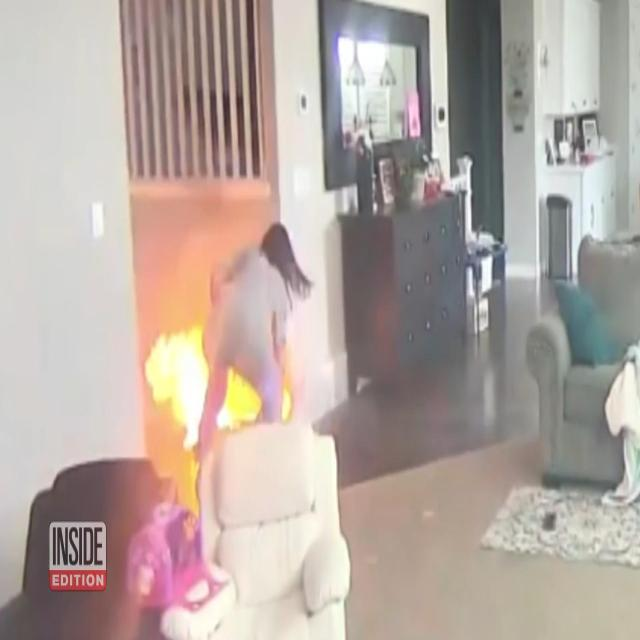fire: (144, 328, 210, 448), (216, 368, 262, 431), (282, 385, 291, 422)
